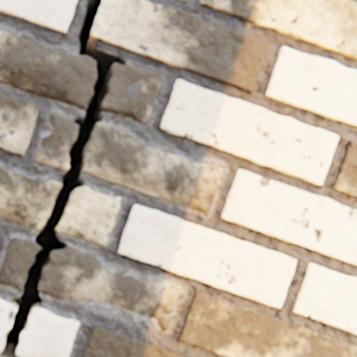brick: (160, 80, 337, 185), (118, 205, 294, 307), (90, 0, 267, 94), (220, 170, 356, 265), (178, 291, 356, 356), (198, 0, 356, 61), (264, 48, 356, 127), (291, 263, 356, 333), (83, 326, 182, 356), (0, 0, 77, 34), (0, 94, 39, 155), (331, 141, 356, 197)
broken_brick: (83, 123, 221, 213), (38, 247, 182, 330), (0, 31, 96, 110), (0, 169, 61, 230), (57, 186, 119, 245), (101, 64, 160, 124), (16, 308, 79, 356), (36, 113, 78, 171), (0, 238, 41, 290), (0, 299, 16, 351)
crack: (0, 0, 124, 356)
